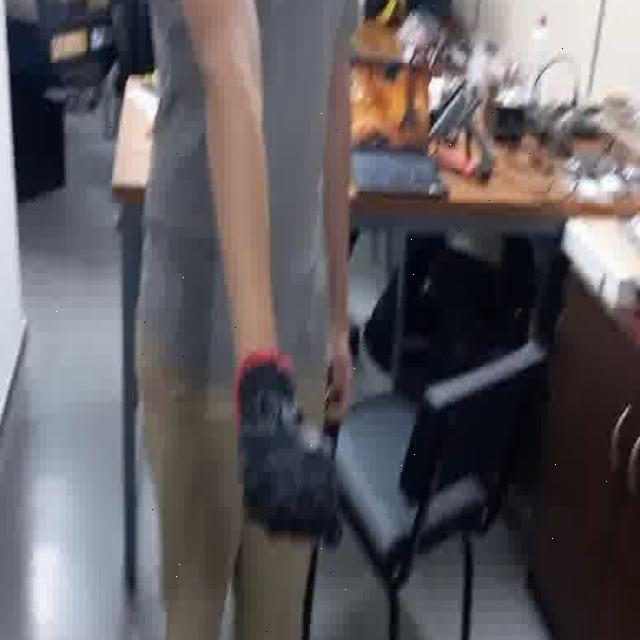Gloves: (233, 358, 354, 549)
